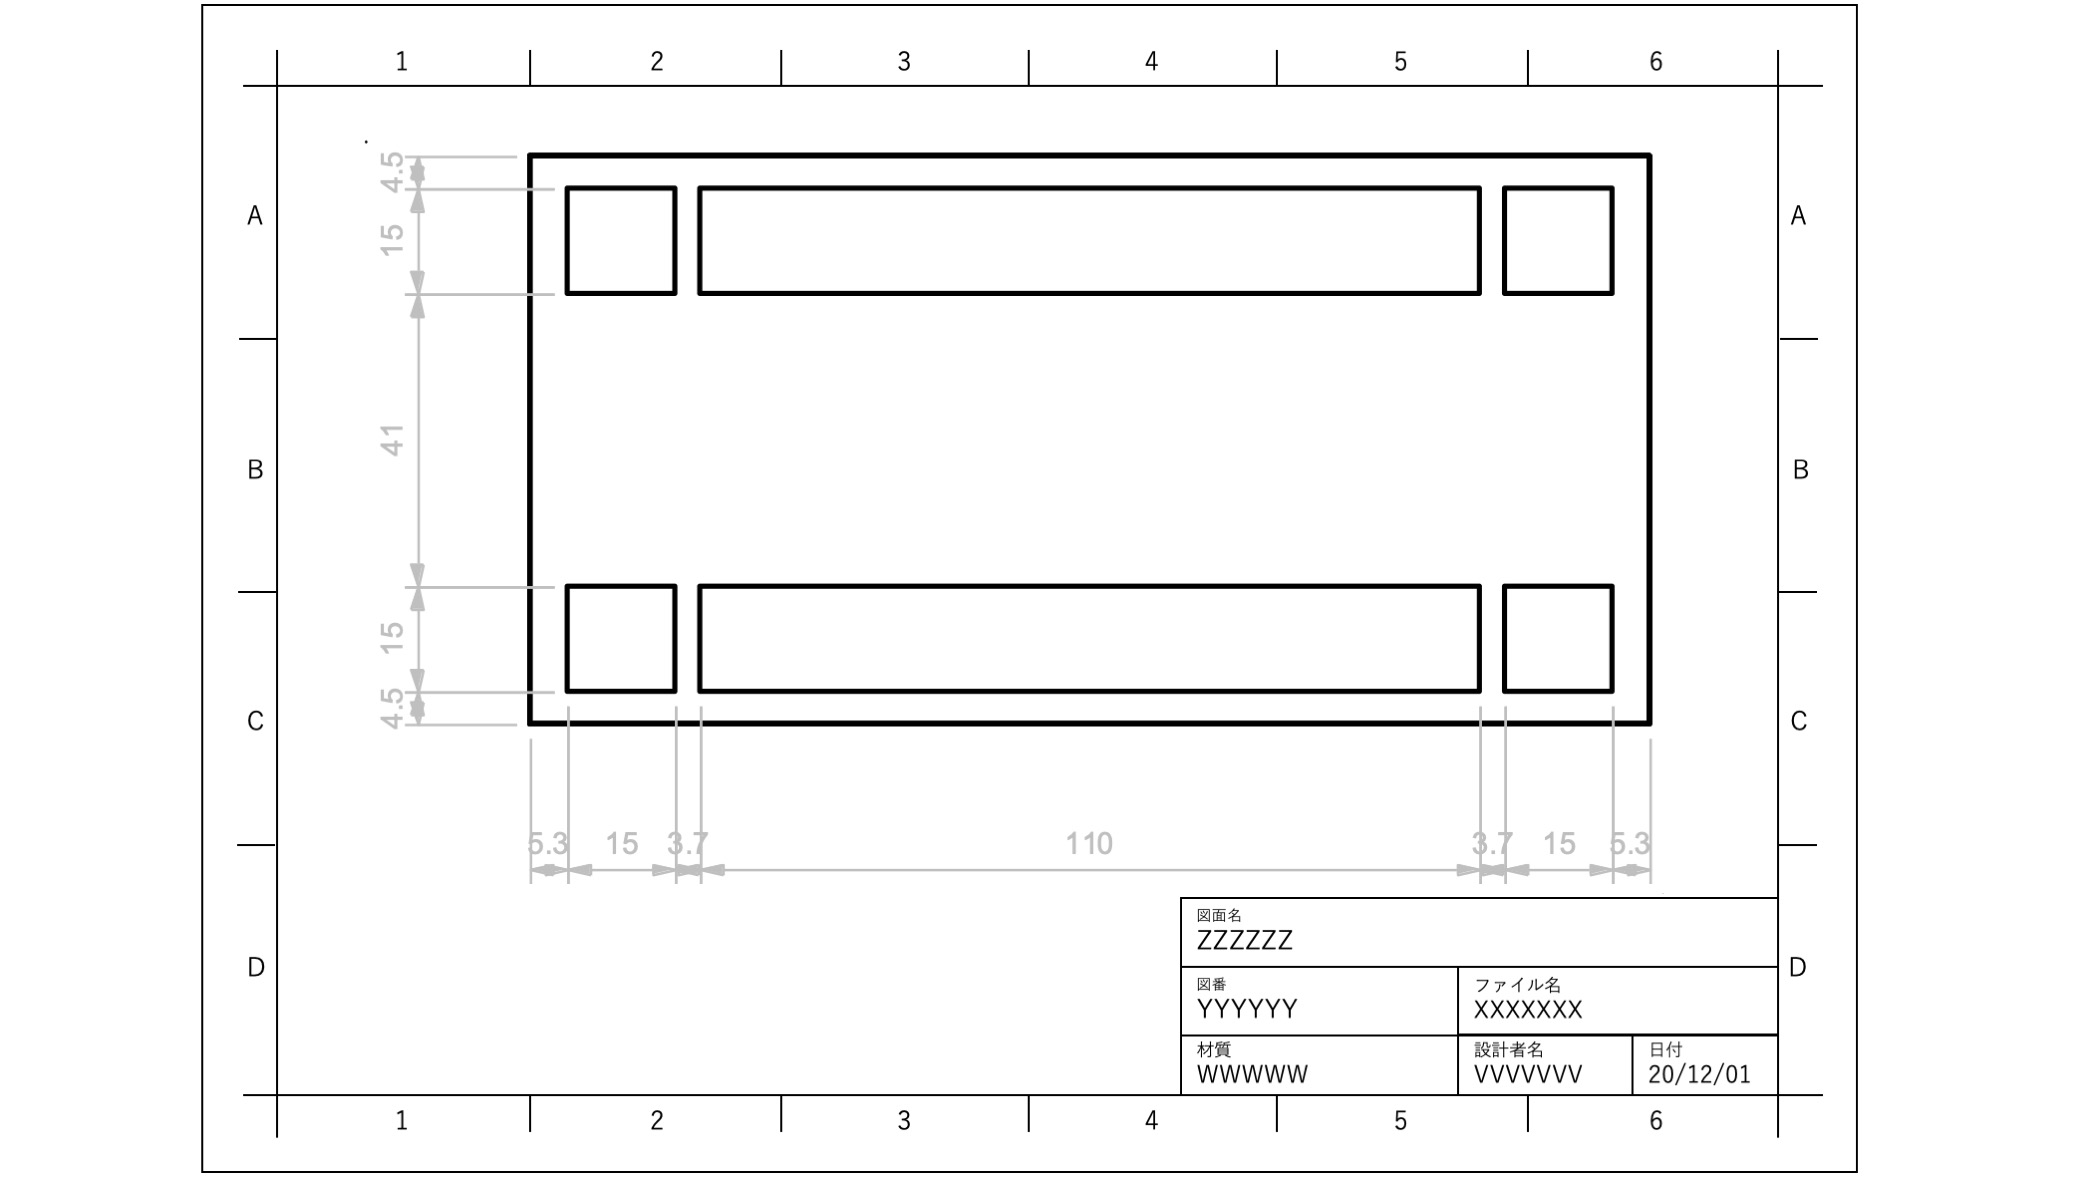rectangle: (685, 565, 1488, 702), (687, 174, 1493, 304), (1491, 568, 1628, 699), (554, 559, 676, 701), (1488, 182, 1623, 304), (558, 179, 681, 309)
